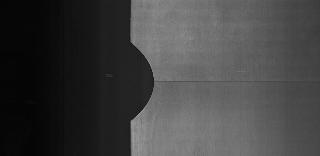welding line: (145, 76, 319, 90)
